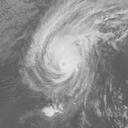cyclone: (19, 1, 104, 104)
